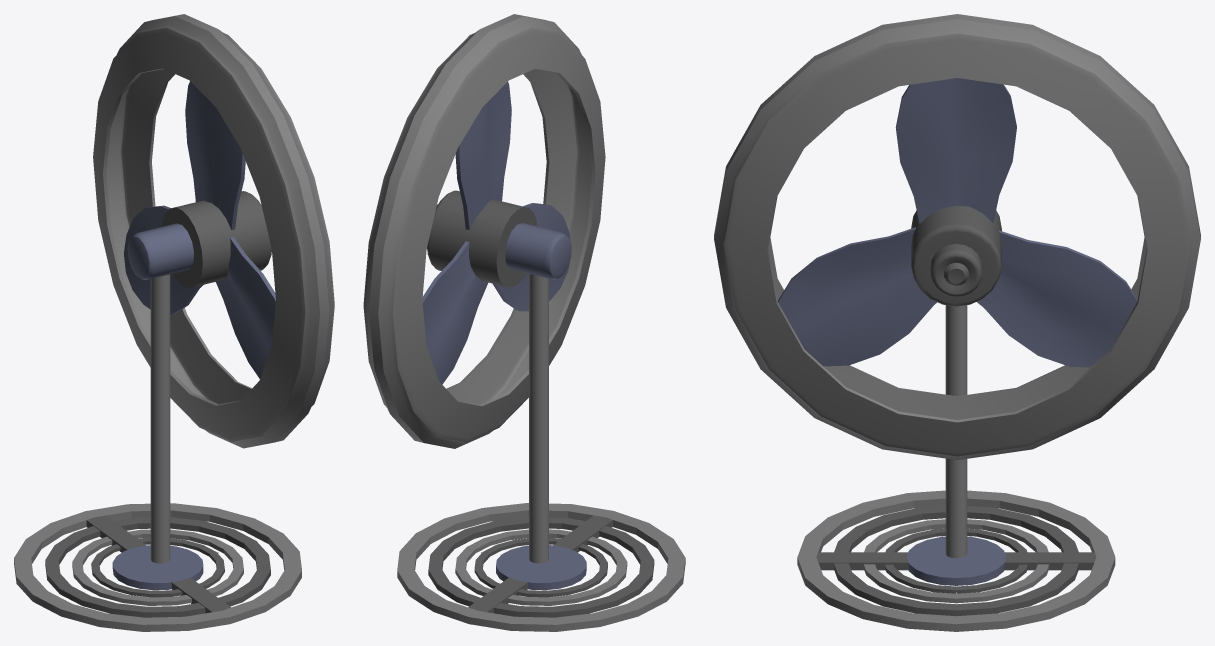
File: ventilateur.fbx
3 views of the same model, side by side, from view 1: azimuth 30°, elevation 25°; view 2: azimuth 150°, elevation 25°; view 3: azimuth 270°, elevation 25° (orthographic). The views are drawn at different scales.
Visible parts, largest first — view 1: pCylinder10; view 2: pCylinder10; view 3: pCylinder10.
Boxes of the visible parts, bbox=[...] form: pCylinder10: bbox=[14, 14, 334, 631]; pCylinder10: bbox=[363, 14, 685, 631]; pCylinder10: bbox=[714, 14, 1200, 631].
Size of the model in its own units: 514 by 1031 by 787.
